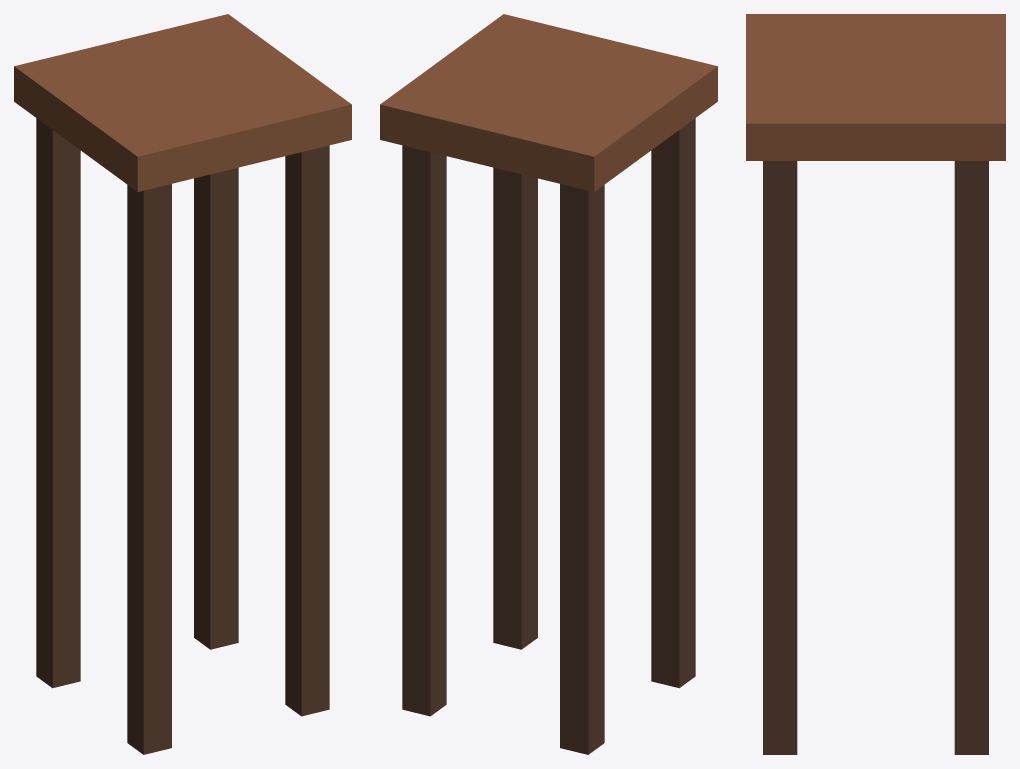
File: stool.glb
3 views of the same model, side by side, from view 1: azimuth 30°, elevation 25°; view 2: azimuth 150°, elevation 25°; view 3: azimuth 270°, elevation 25° (orthographic). The views are drawn at different scales.
Size of the model in its own units: 0.38 by 1.03 by 0.38.
